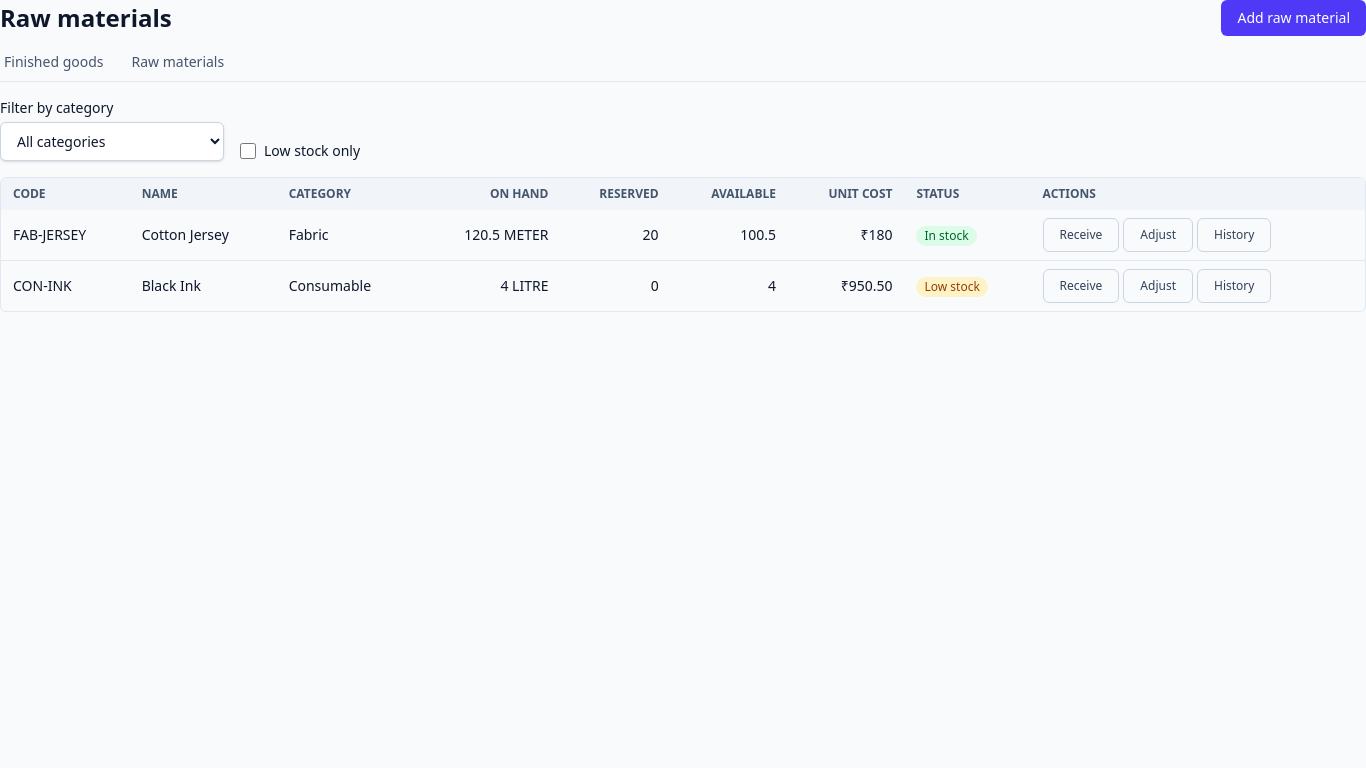
it: RawMaterialsPage › does not create a raw material until the form is valid
Click the button "Add raw material" at (1294, 18), box left=1221, top=0, right=1365, bottom=36
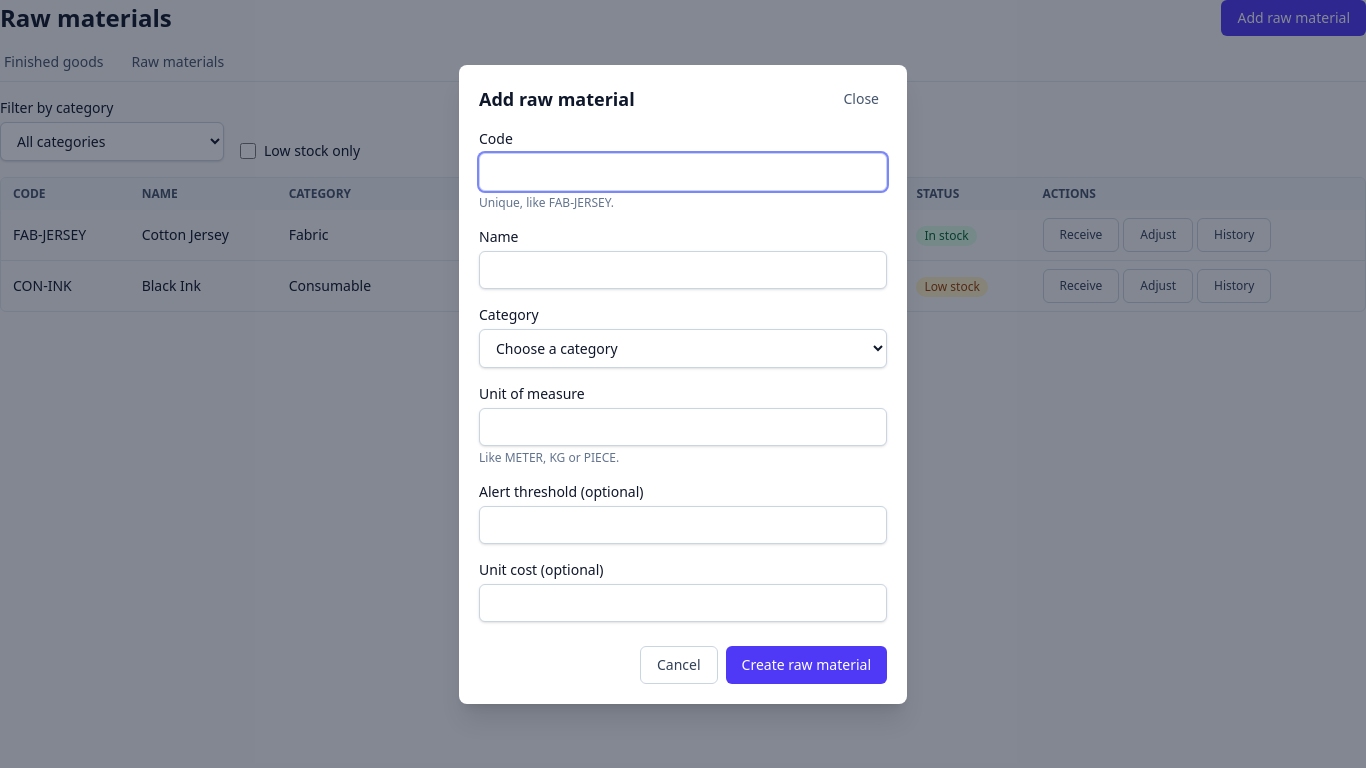
Click the button "Create raw material" at (806, 664), box left=726, top=646, right=887, bottom=684
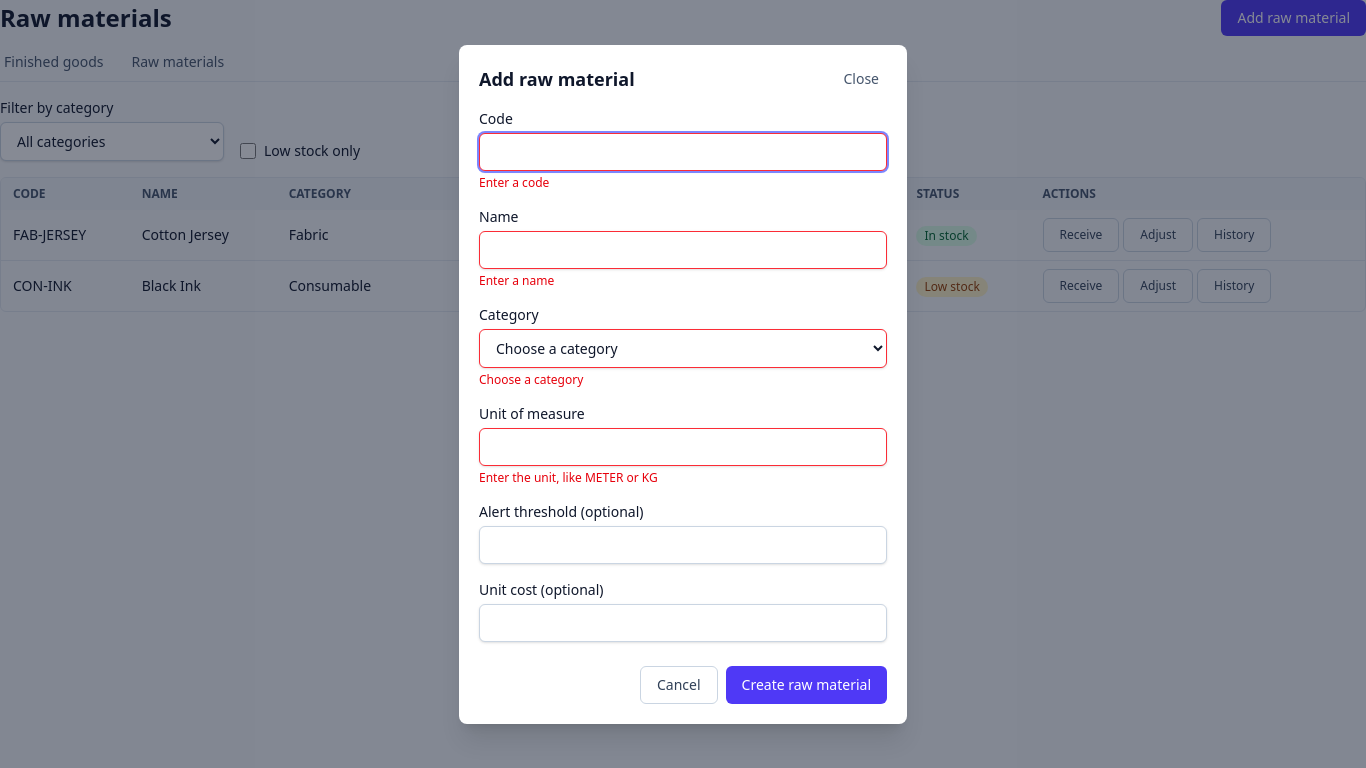
Now the text "Enter a code" is shown, box left=479, top=174, right=549, bottom=190
Now the text "Enter a name" is shown, box left=479, top=272, right=554, bottom=288
Now the text "Choose a category" is shown, box left=479, top=370, right=583, bottom=388
